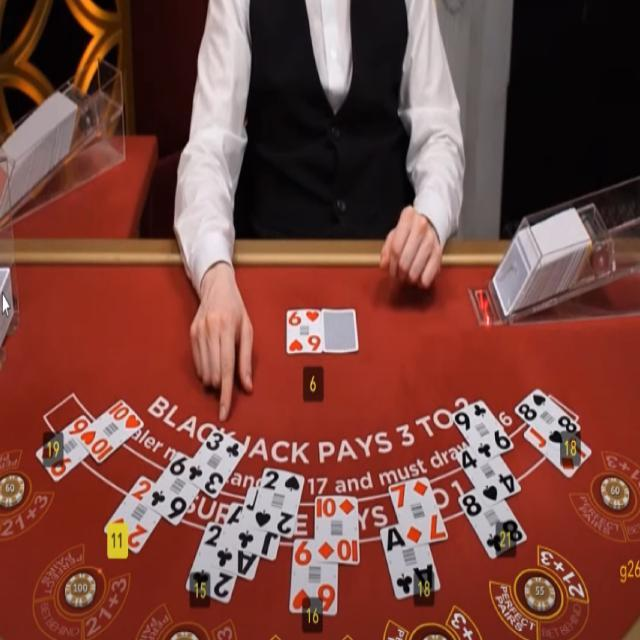Card-10: (79, 398, 144, 466), (316, 496, 359, 564)
Card-2: (104, 475, 161, 553), (185, 520, 236, 602), (253, 468, 304, 538)
Card-3: (182, 427, 246, 499)
Card-4: (455, 446, 522, 509)
Card-6: (146, 450, 199, 526), (290, 538, 337, 615), (287, 309, 323, 353)
Card-7: (388, 476, 448, 548)
Card-8: (458, 489, 527, 560), (514, 387, 581, 449)
Card-9: (451, 398, 514, 463), (35, 413, 91, 483)
Card-A: (380, 523, 441, 599), (212, 501, 259, 580)
Card-J: (523, 426, 592, 479), (235, 487, 281, 560)
